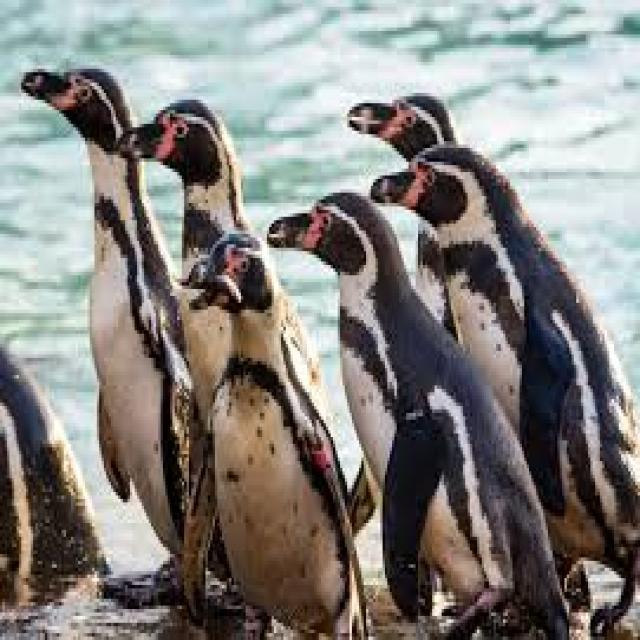penguin: (267, 193, 567, 637), (371, 145, 638, 616), (21, 69, 189, 602), (189, 231, 364, 637), (120, 100, 248, 279), (347, 96, 453, 158)
